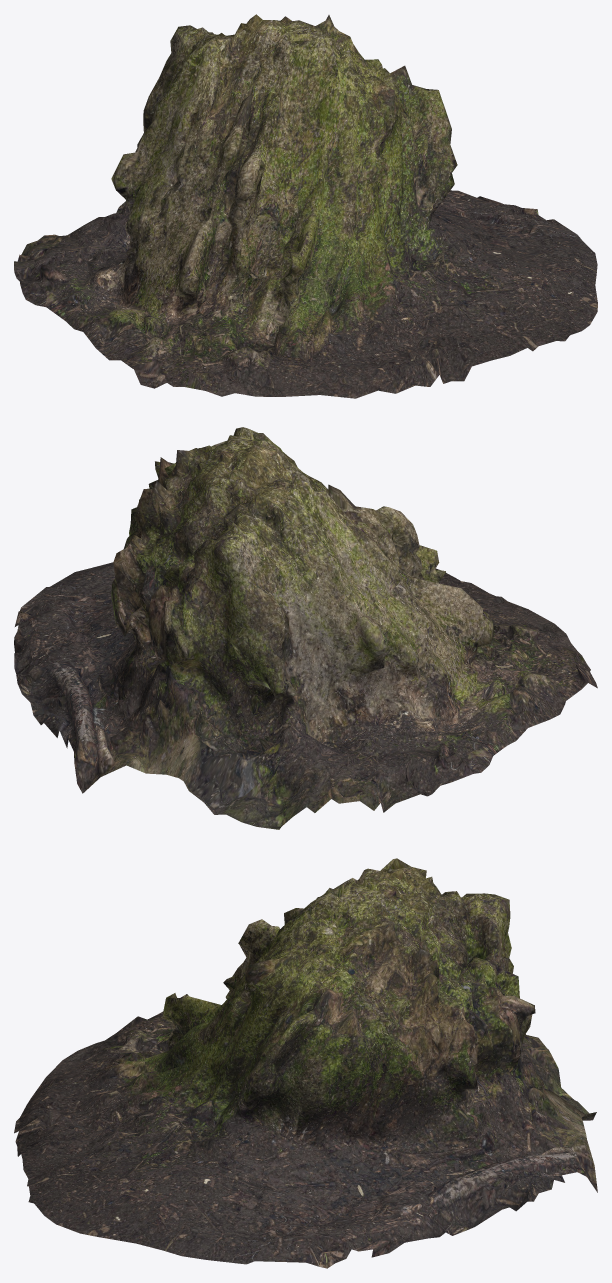
File: PX_Stump_11_LOD3.fbx
The picture shows the model from 3 angles, top to bottom: view 1: azimuth 30°, elevation 25°; view 2: azimuth 150°, elevation 25°; view 3: azimuth 270°, elevation 25°; orthographic projection. The views are drawn at different scales.
Parts seen in each view (by area): view 1: PX_Stump_11_LOD3; view 2: PX_Stump_11_LOD3; view 3: PX_Stump_11_LOD3.
Part boxes in pixels (x1,y1,x2,y2): PX_Stump_11_LOD3: (14, 14, 597, 398); PX_Stump_11_LOD3: (14, 427, 597, 829); PX_Stump_11_LOD3: (14, 858, 597, 1268).
Bounding box in the file's own units: 55.31 × 29.62 × 53.33.
